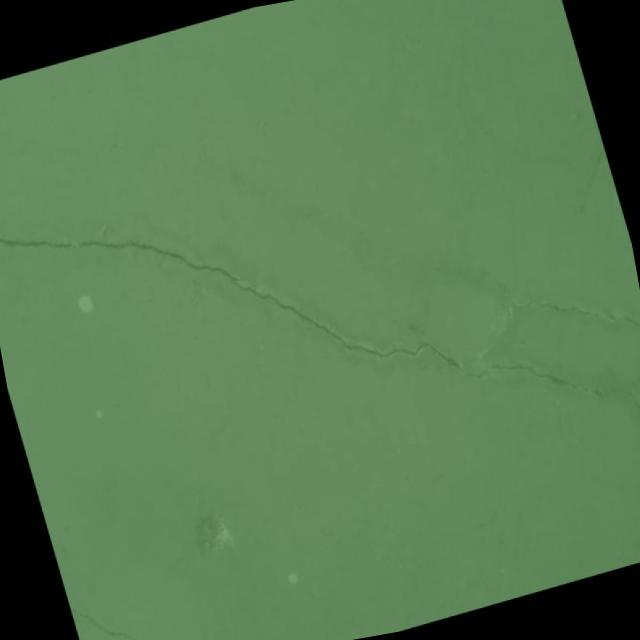crack: (0, 99, 506, 506), (446, 219, 640, 388), (487, 321, 640, 450), (66, 569, 213, 640)
